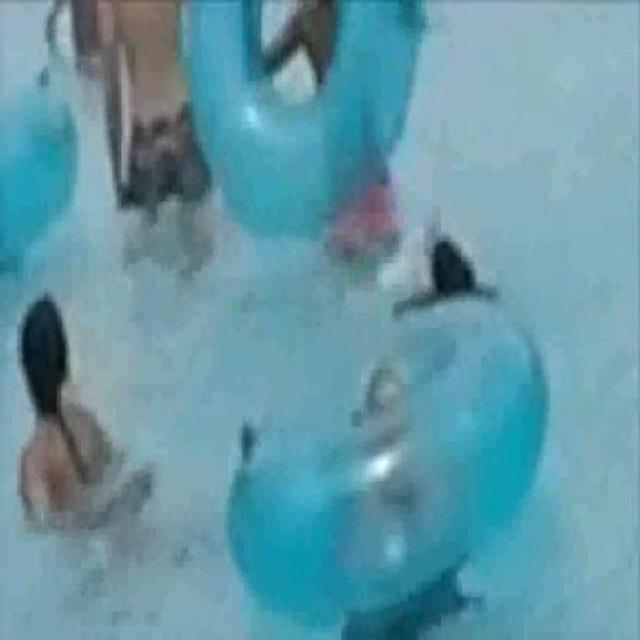drowning: (16, 302, 127, 540), (402, 228, 490, 315)
